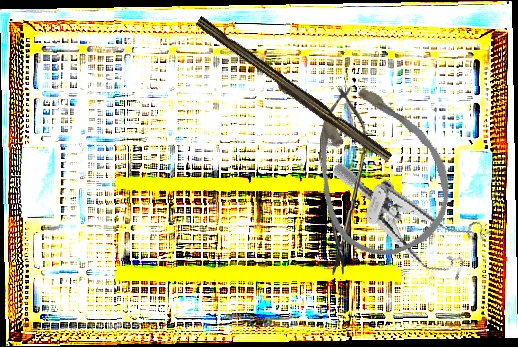Cannula: (282, 60, 470, 273)
Micro Scissor: (317, 86, 367, 276)
Scalpel Handle: (191, 15, 395, 167)
Speculum: (312, 161, 497, 287)
